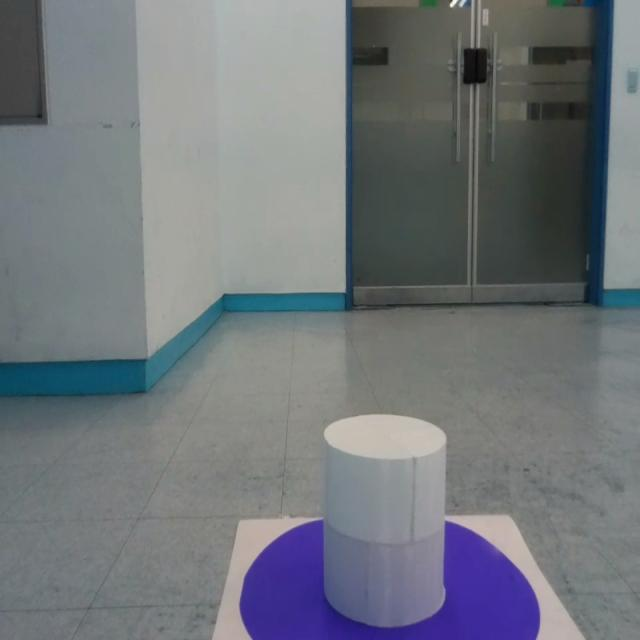cylinder: (320, 411, 448, 627)
